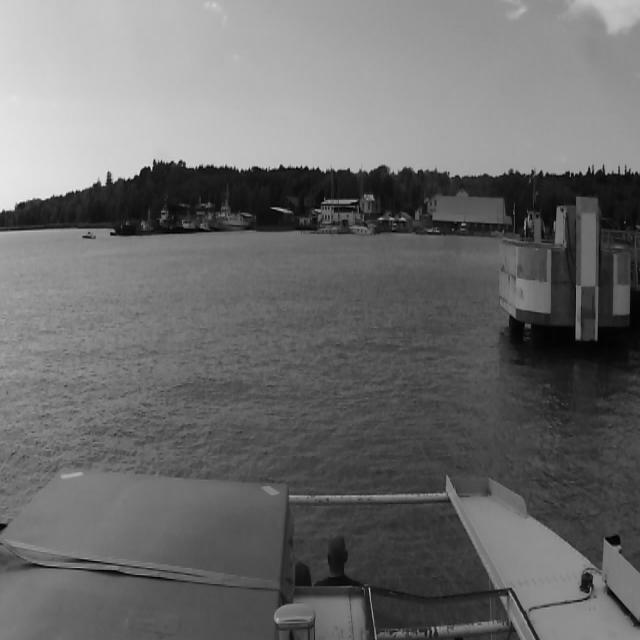ship: (349, 220, 371, 236), (80, 227, 96, 241)
